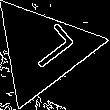L_SW: (12, 22, 74, 78)
